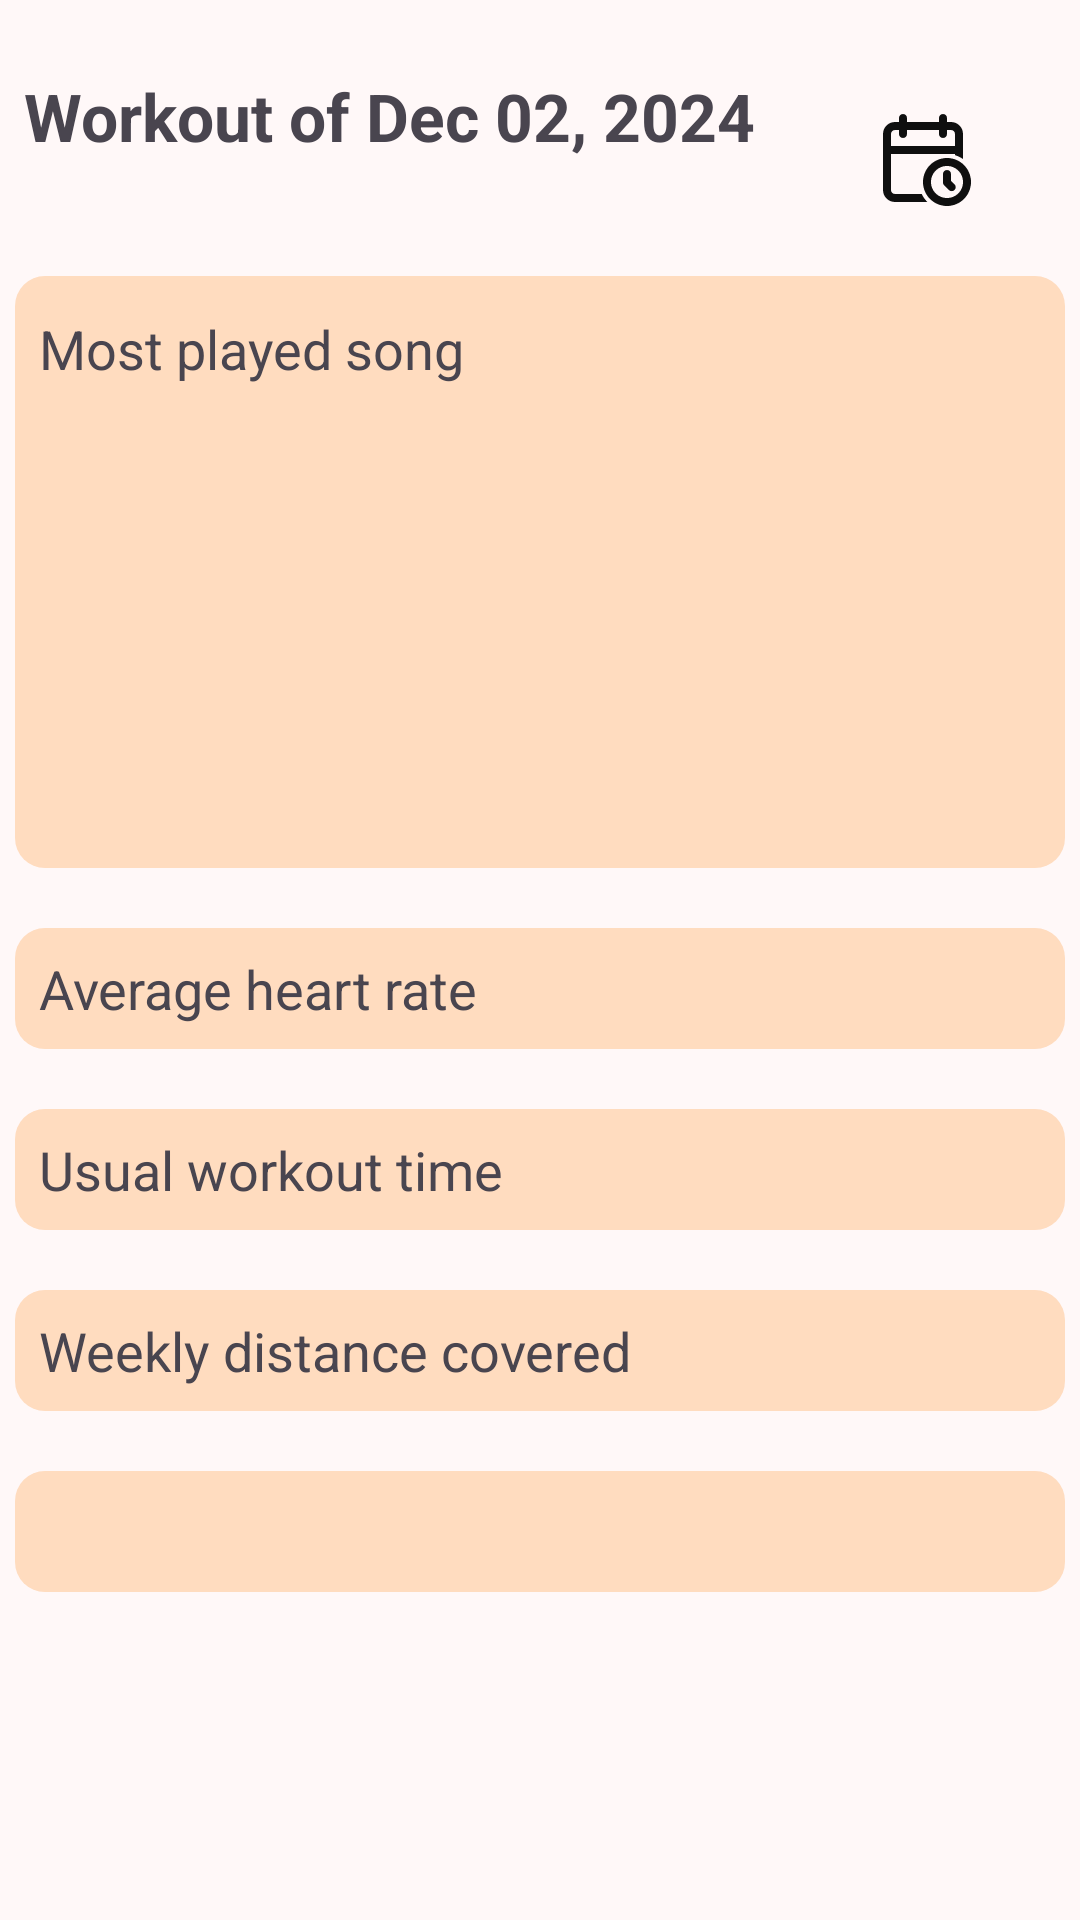

Icon bounding boxes for this 1080px×1920px phone screenshot, format (left=x1, top=y1, right=x2, bottom=y2):
calendar time: (left=883, top=114, right=971, bottom=206)
